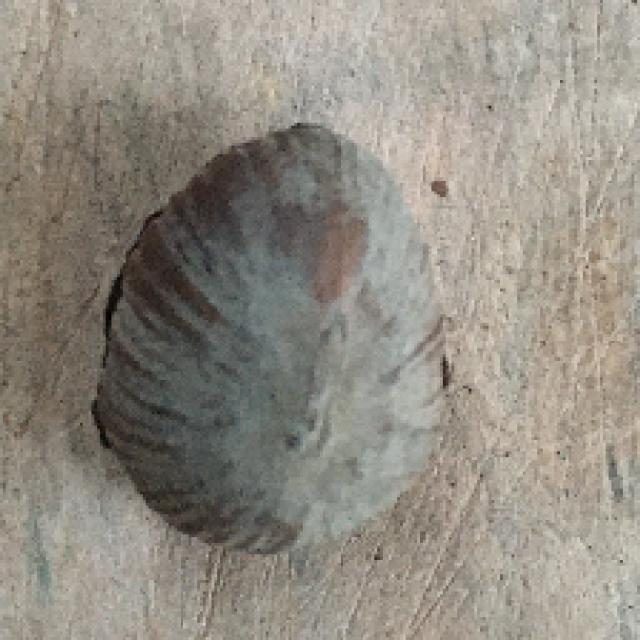damagedHazelnut: (88, 118, 459, 563)
